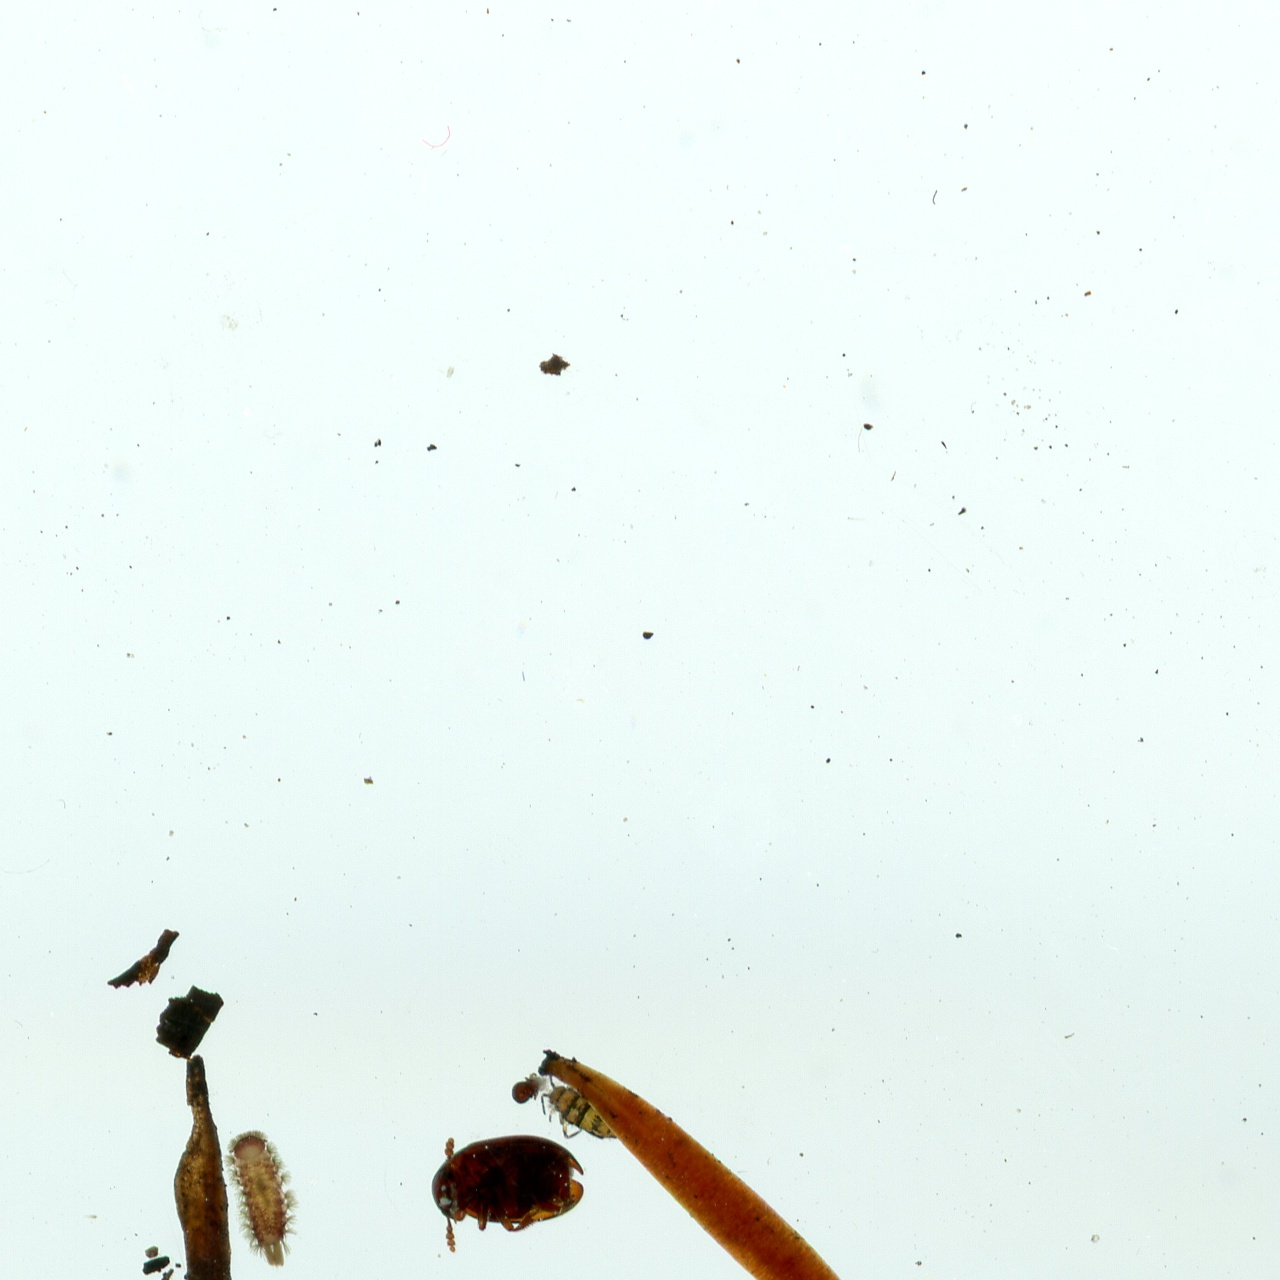arthropod: (428, 1133, 586, 1254), (220, 1125, 304, 1269), (539, 1074, 618, 1141), (510, 1070, 542, 1107)
